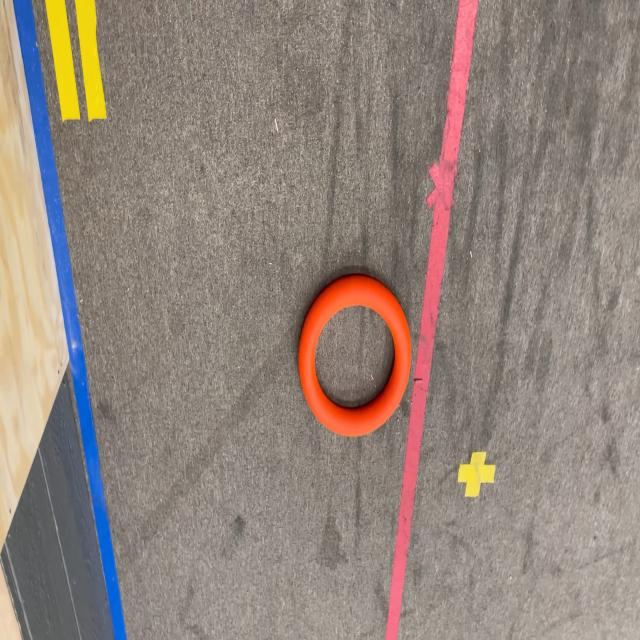note: (296, 278, 410, 439)
